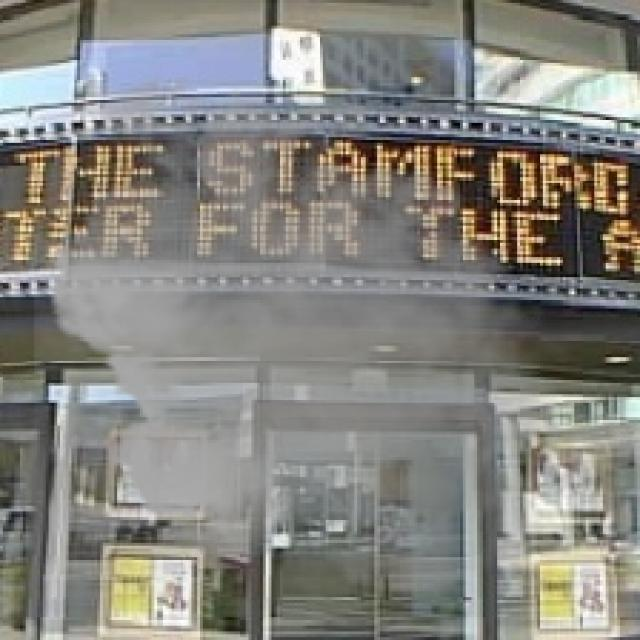smoke: (34, 57, 586, 606)
